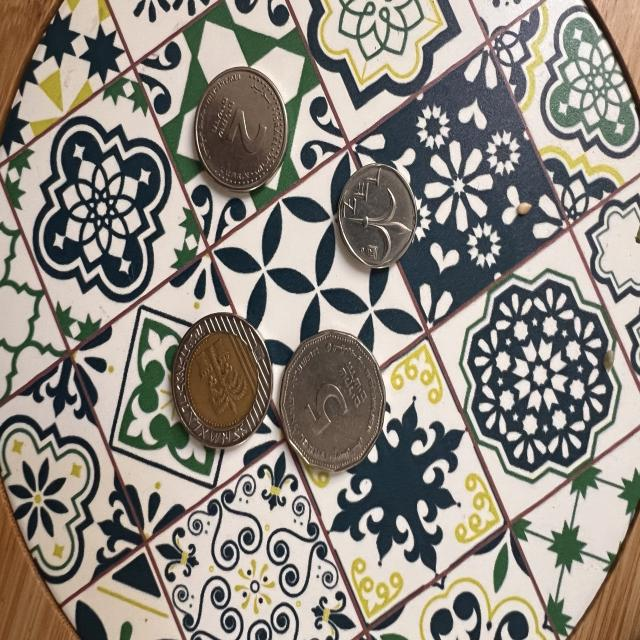1-shekel: (334, 163, 417, 262)
10-shekel: (168, 312, 275, 451)
2-shekel: (195, 67, 288, 185)
5-shekel: (279, 324, 385, 474)
